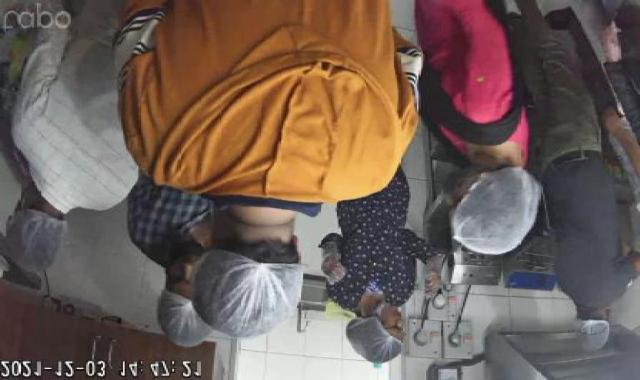hairnet: (198, 245, 312, 341), (452, 165, 545, 259), (7, 207, 70, 283), (332, 308, 409, 366), (149, 289, 217, 351), (570, 315, 616, 361)
